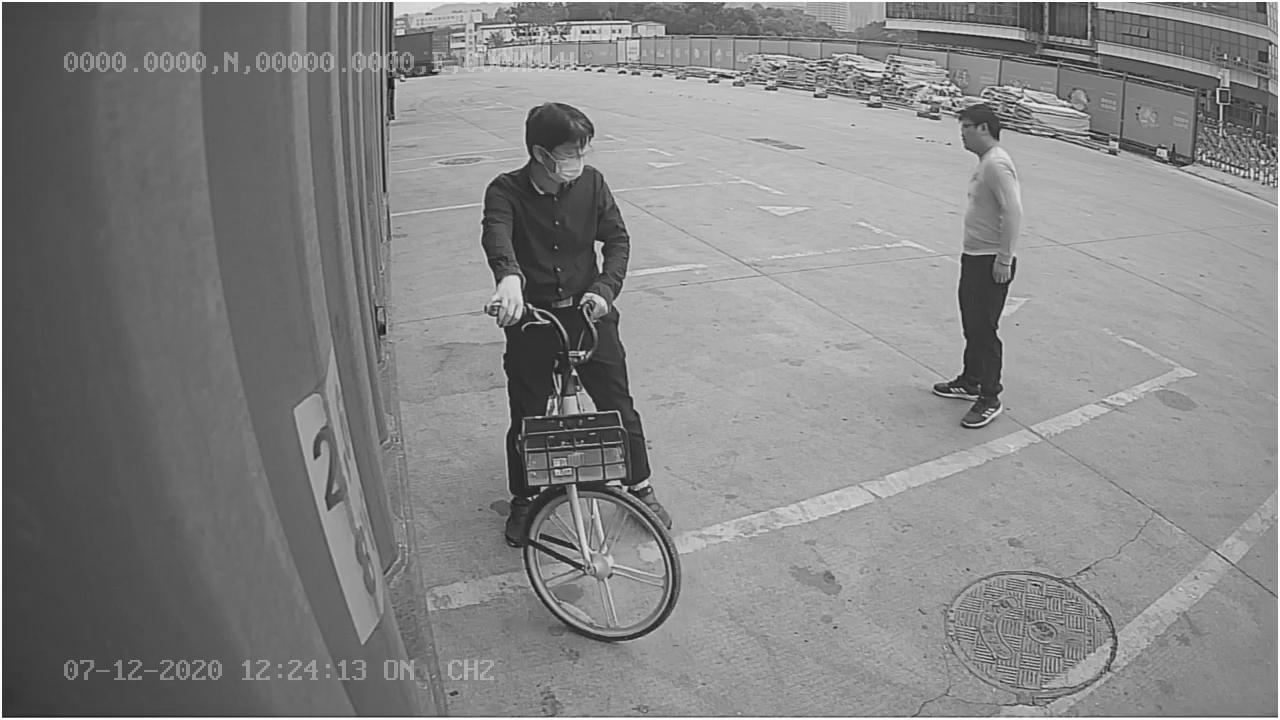person: (927, 102, 1029, 434)
